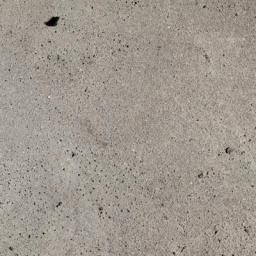FOD: (43, 14, 63, 30)
